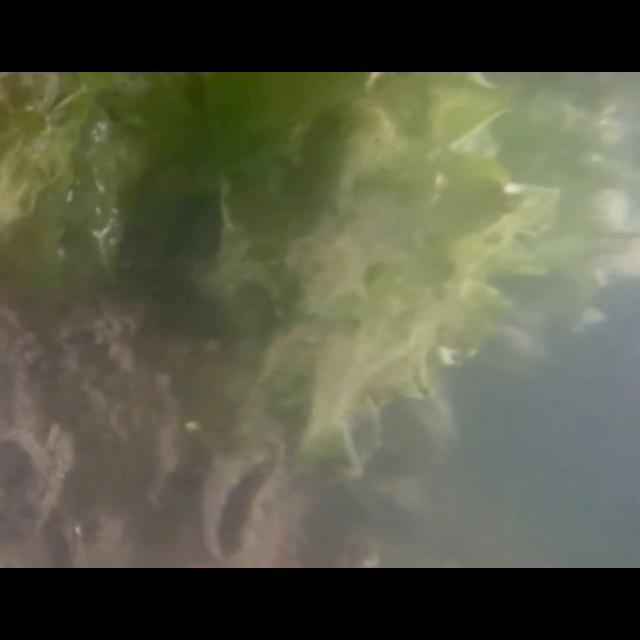Oyster-Open: (198, 440, 286, 566)
